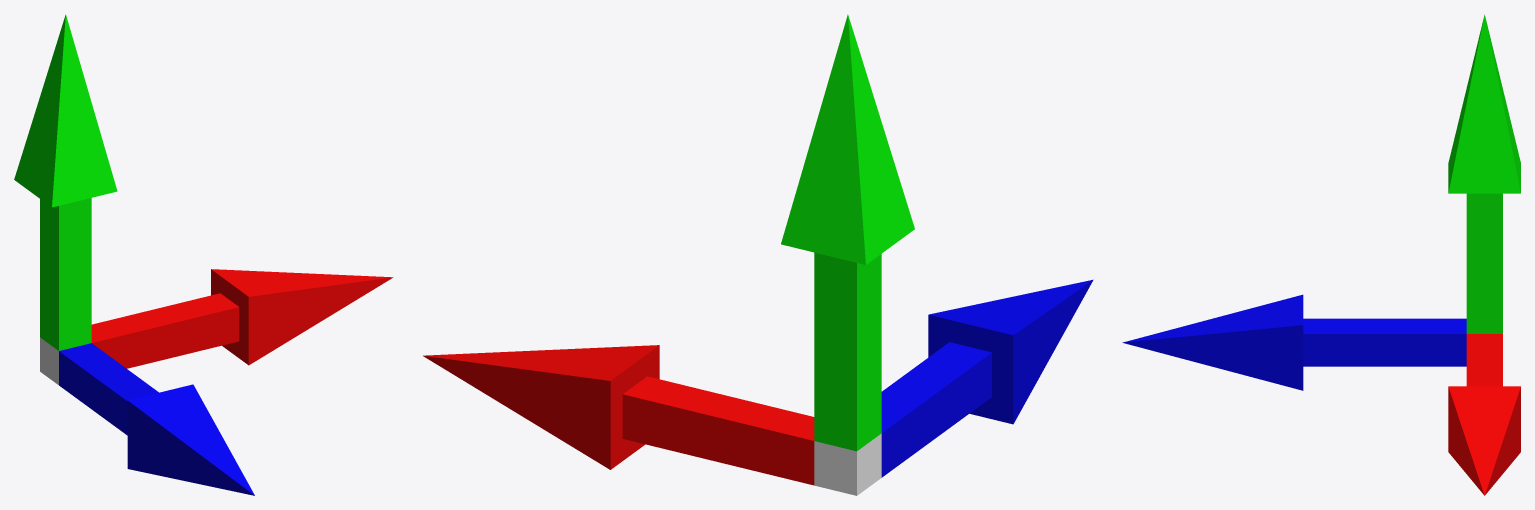
Rendered from axis.obj.
The picture shows the model from 3 angles, left to right: view 1: azimuth 30°, elevation 25°; view 2: azimuth 150°, elevation 25°; view 3: azimuth 270°, elevation 25°; orthographic projection. The views are drawn at different scales.
Parts seen in each view (by area): view 1: 立方体; view 2: 立方体; view 3: 立方体.
Part boxes in pixels (bbox=[...]): 立方体: bbox=[14, 14, 393, 495]; 立方体: bbox=[423, 14, 1093, 495]; 立方体: bbox=[1122, 14, 1520, 495].
Size of the model in its own units: 1.1 by 1.1 by 1.1.
1 material, 1 textured.
